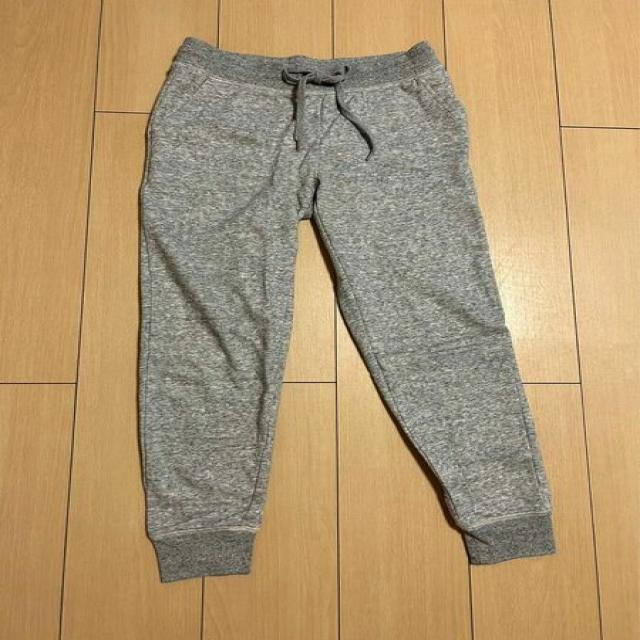long-pants: (135, 34, 556, 583)
